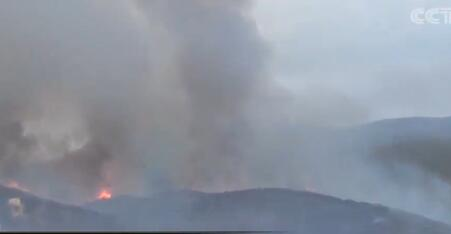fire: (92, 187, 112, 201)
smoke: (0, 0, 448, 233)
